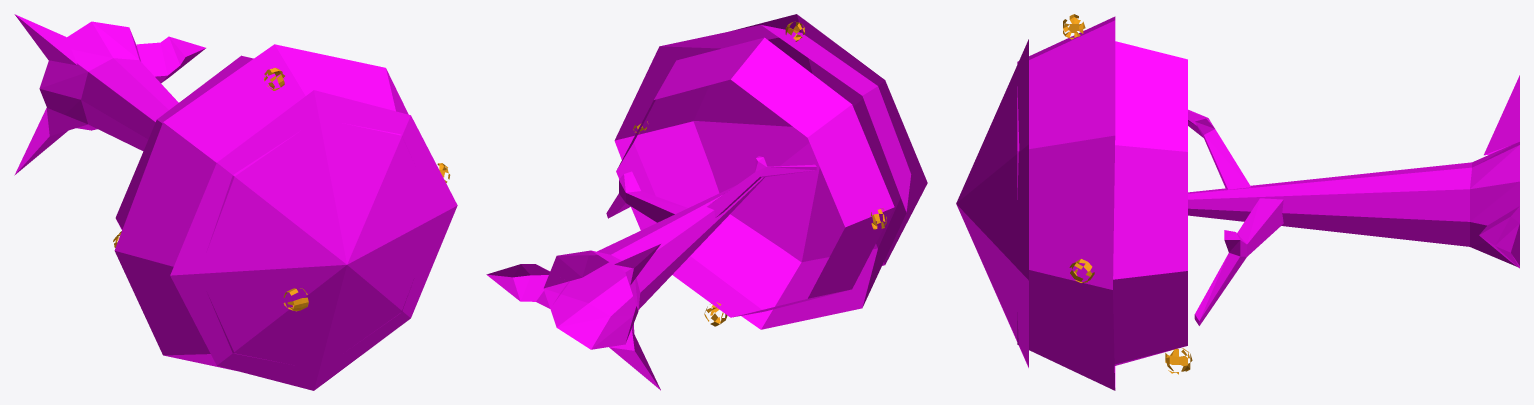
File: 4_mature_partial.obj
3 views of the same model, side by side, from view 1: azimuth 30°, elevation 25°; view 2: azimuth 150°, elevation 25°; view 3: azimuth 270°, elevation 25° (orthographic). The views are drawn at different scales.
Parts seen in each view (by area): view 1: orange_4_partial; view 2: orange_4_partial; view 3: orange_4_partial.
Boxes of the visible parts, x1,y1,x2,y2 form: orange_4_partial: (14, 14, 457, 390); orange_4_partial: (486, 14, 927, 390); orange_4_partial: (956, 14, 1519, 390).
Size of the model in its own units: 1.79 by 1.78 by 2.48.
